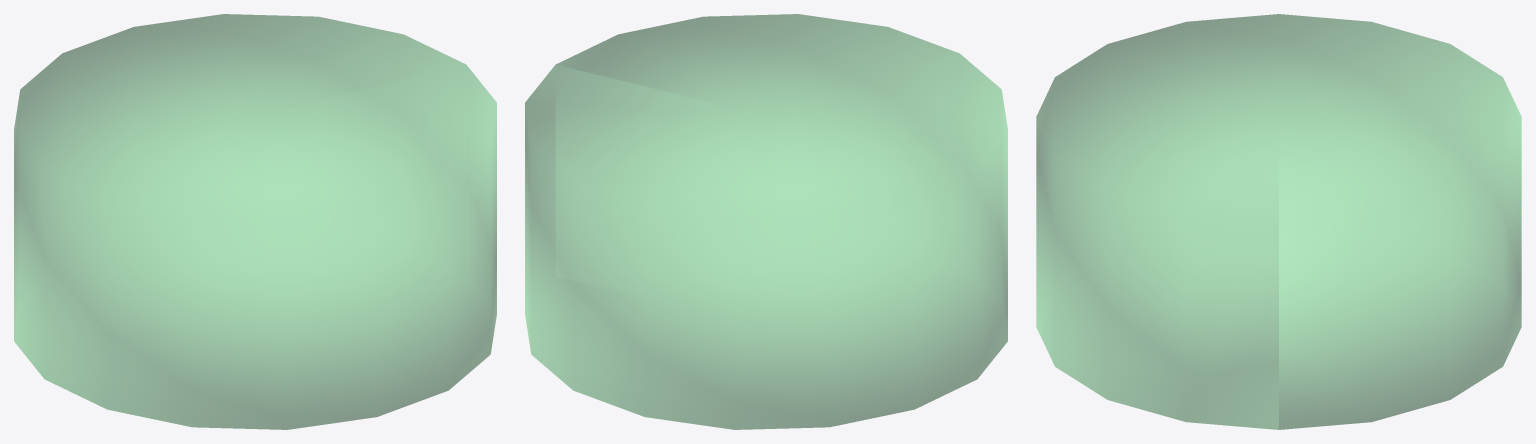
File: guti_pebble_dark_col.glb
3 views of the same model, side by side, from view 1: azimuth 30°, elevation 25°; view 2: azimuth 150°, elevation 25°; view 3: azimuth 270°, elevation 25° (orthographic).
Parts seen in each view (by area): view 1: guti_pebble_dark_col_0; view 2: guti_pebble_dark_col_0; view 3: guti_pebble_dark_col_0.
Boxes of the visible parts, x1=… form: guti_pebble_dark_col_0: x1=14, y1=14, x2=496, y2=429; guti_pebble_dark_col_0: x1=525, y1=14, x2=1007, y2=429; guti_pebble_dark_col_0: x1=1036, y1=14, x2=1521, y2=429.
Bounding box in the file's own units: 0.025 × 0.012 × 0.025.
